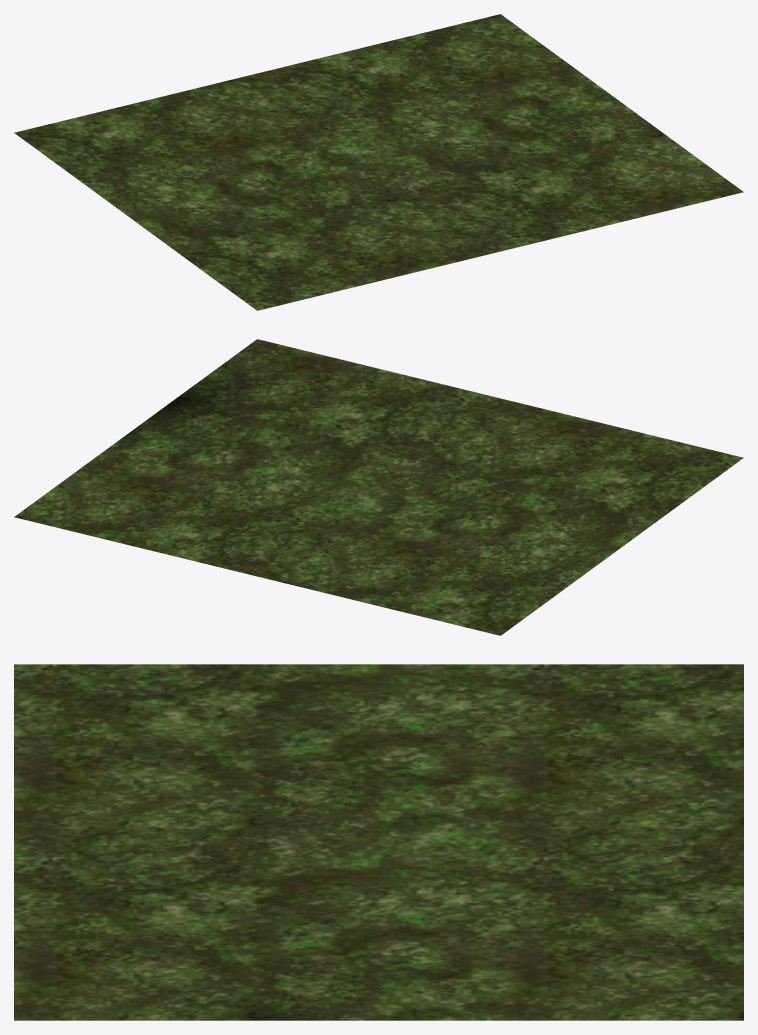
File: OVERHILL_A_01_OBJECT81.fbx
3 views of the same model, one above another, from view 1: azimuth 30°, elevation 25°; view 2: azimuth 150°, elevation 25°; view 3: azimuth 270°, elevation 25° (orthographic). The views are drawn at different scales.
Parts seen in each view (by area): view 1: OVERHILL_A_01_OBJECT81; view 2: OVERHILL_A_01_OBJECT81; view 3: OVERHILL_A_01_OBJECT81.
Part boxes in pixels (<box>): OVERHILL_A_01_OBJECT81: <box>14,14,743,310</box>; OVERHILL_A_01_OBJECT81: <box>14,339,743,635</box>; OVERHILL_A_01_OBJECT81: <box>14,664,743,1020</box>.
Size of the model in its own units: 54178 by 0.00764 by 46916.
Materials: 1 (1 with a texture image).
